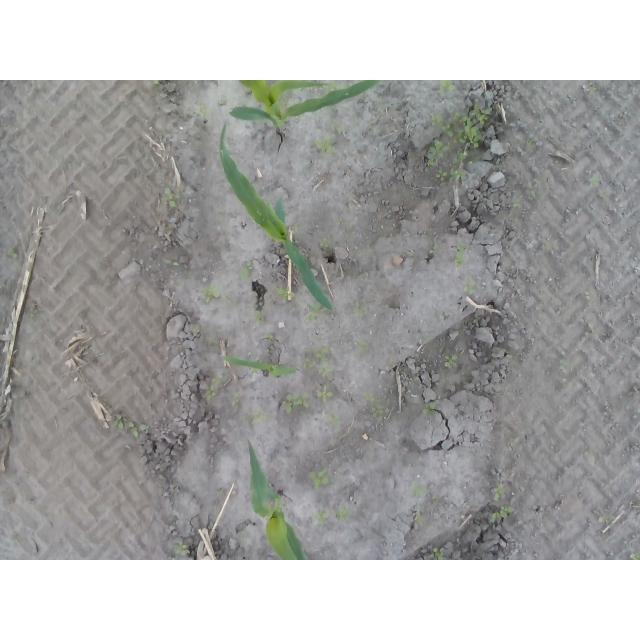Maize: (220, 124, 336, 312), (230, 80, 382, 133), (247, 441, 314, 560), (226, 355, 298, 380)
Weeds: (428, 100, 491, 185), (305, 349, 332, 376), (111, 415, 142, 438), (361, 391, 385, 417), (282, 391, 310, 413), (308, 471, 333, 490), (485, 506, 511, 524), (206, 375, 223, 400), (310, 136, 335, 153), (303, 302, 322, 320), (408, 479, 427, 497), (315, 385, 333, 403), (335, 503, 353, 521), (237, 261, 251, 282), (201, 285, 218, 302), (446, 354, 463, 370), (197, 96, 209, 118), (312, 512, 329, 527), (491, 483, 505, 501), (164, 188, 176, 209), (274, 286, 295, 298), (175, 542, 190, 558), (439, 80, 456, 93), (560, 358, 577, 371), (454, 245, 464, 267), (432, 546, 447, 560), (354, 305, 369, 319), (511, 191, 522, 209), (28, 304, 41, 319), (421, 402, 435, 415), (330, 417, 342, 432), (231, 391, 241, 409), (336, 127, 353, 137), (414, 513, 426, 527), (255, 310, 265, 326), (465, 282, 477, 294), (590, 175, 603, 186), (319, 240, 330, 250), (629, 552, 640, 560), (192, 328, 200, 337), (151, 81, 160, 86)
